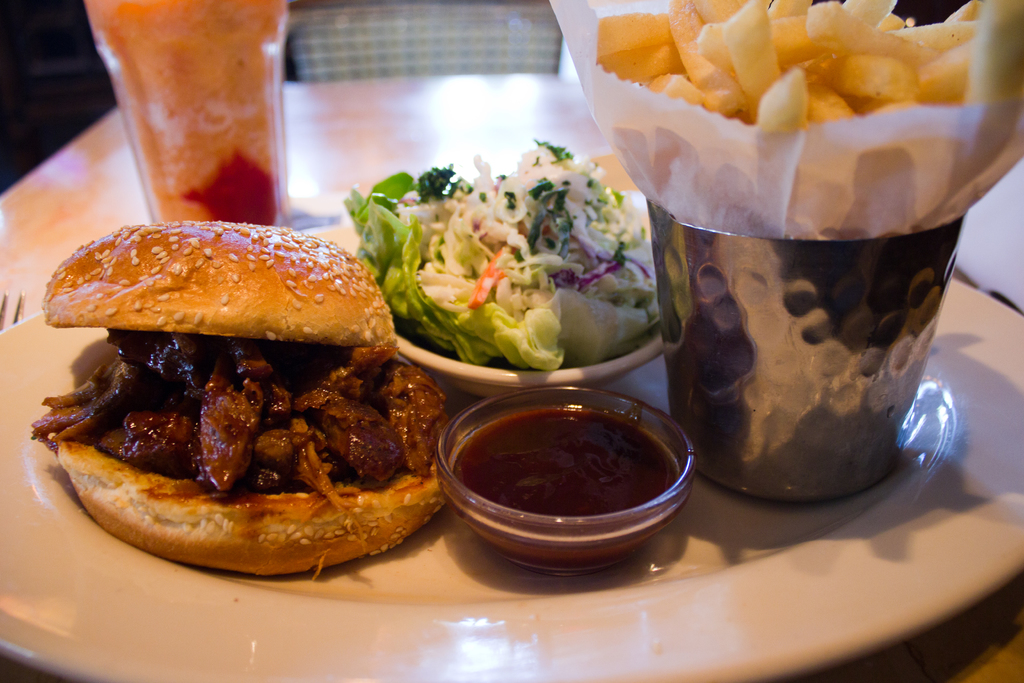French fries: (615, 8, 975, 128)
